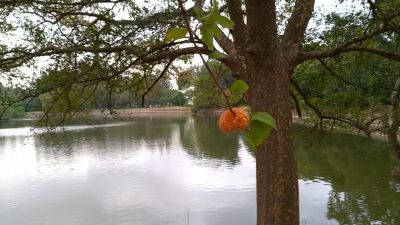eggs: (216, 106, 253, 134)
